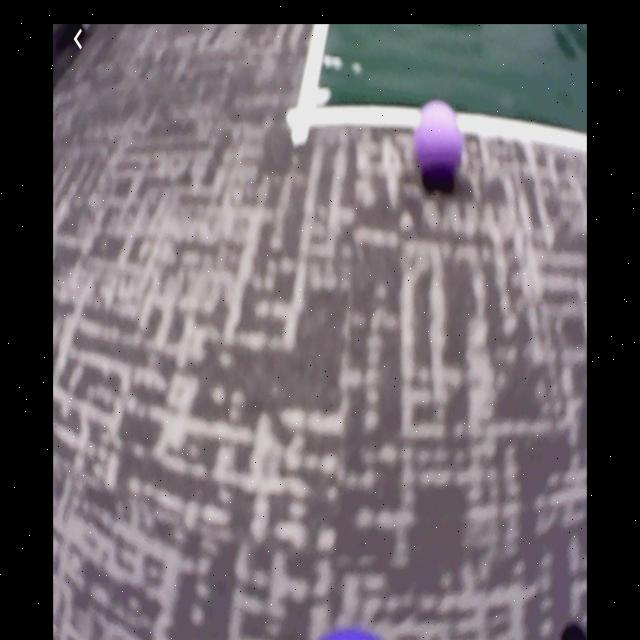ball: (418, 101, 463, 181)
